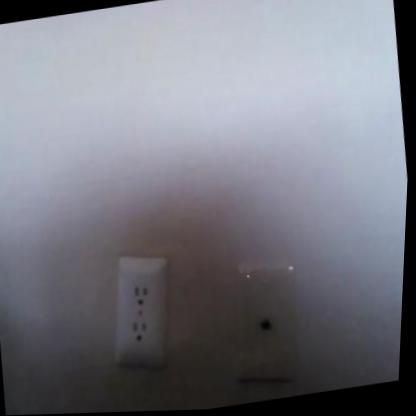OUTLET: (101, 249, 182, 370)
